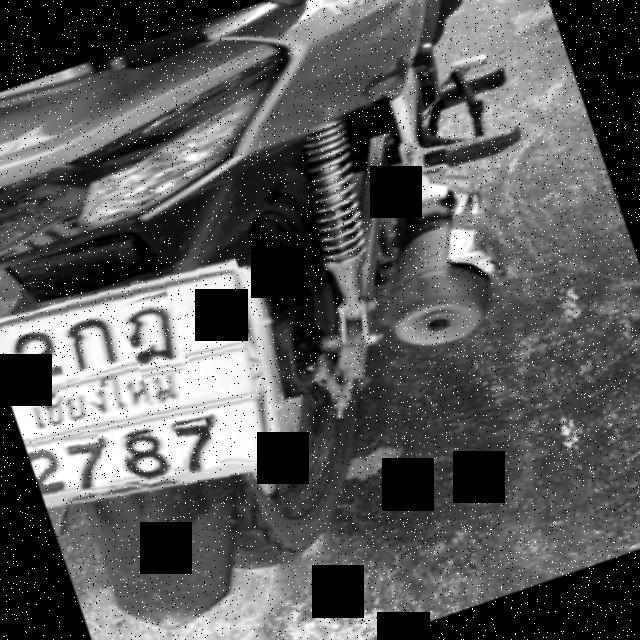letters: (118, 290, 192, 382), (58, 302, 135, 388), (5, 322, 68, 399), (61, 428, 116, 499), (122, 426, 176, 488), (23, 434, 68, 496), (174, 416, 221, 474)
license-plate: (0, 272, 265, 508)
province: (15, 342, 202, 452)
